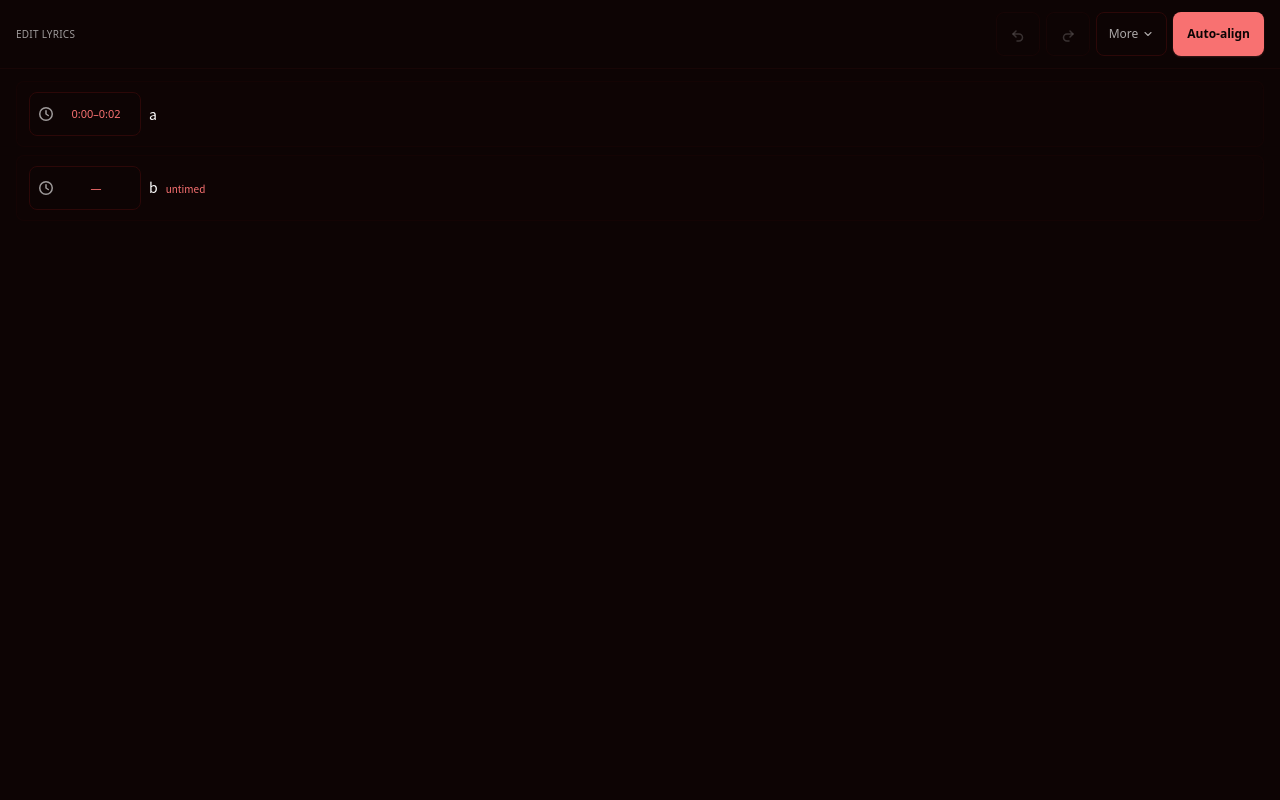
Test: EditMode › tapping the timestamp pill opens a popover instead of stamping
The image size is (1280, 800).
Click the button named "edit timestamp for line 2": (85, 188) [29,166,141,210]
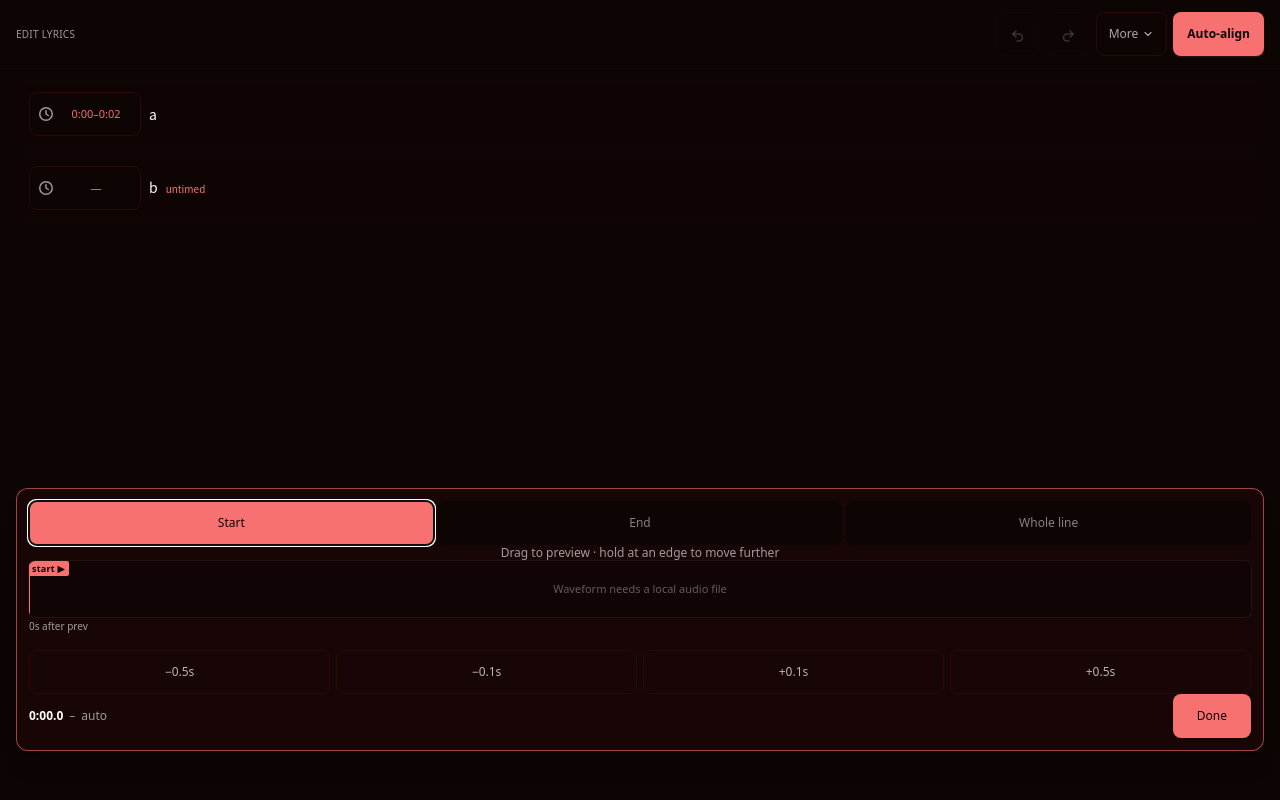
Now the element named "Scrub start timestamp" is shown, box [29,561,1251,617]
